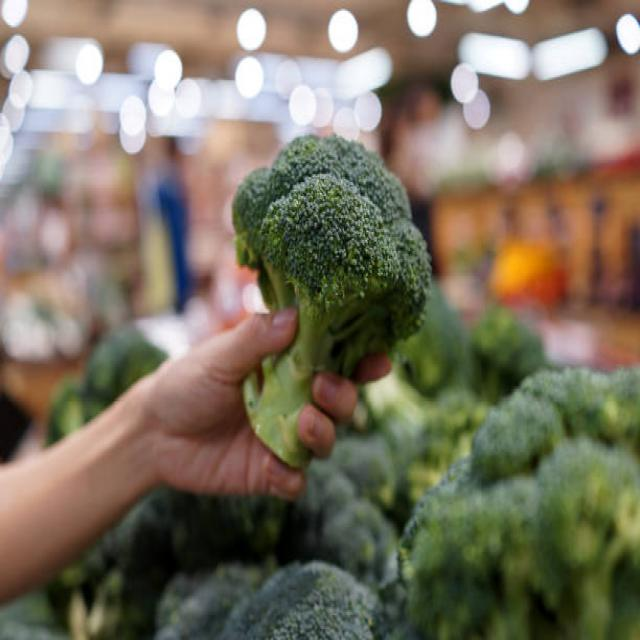broccoli: (245, 112, 442, 331)
